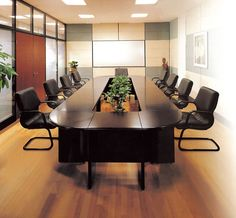conference_table: (49, 75, 181, 190)
